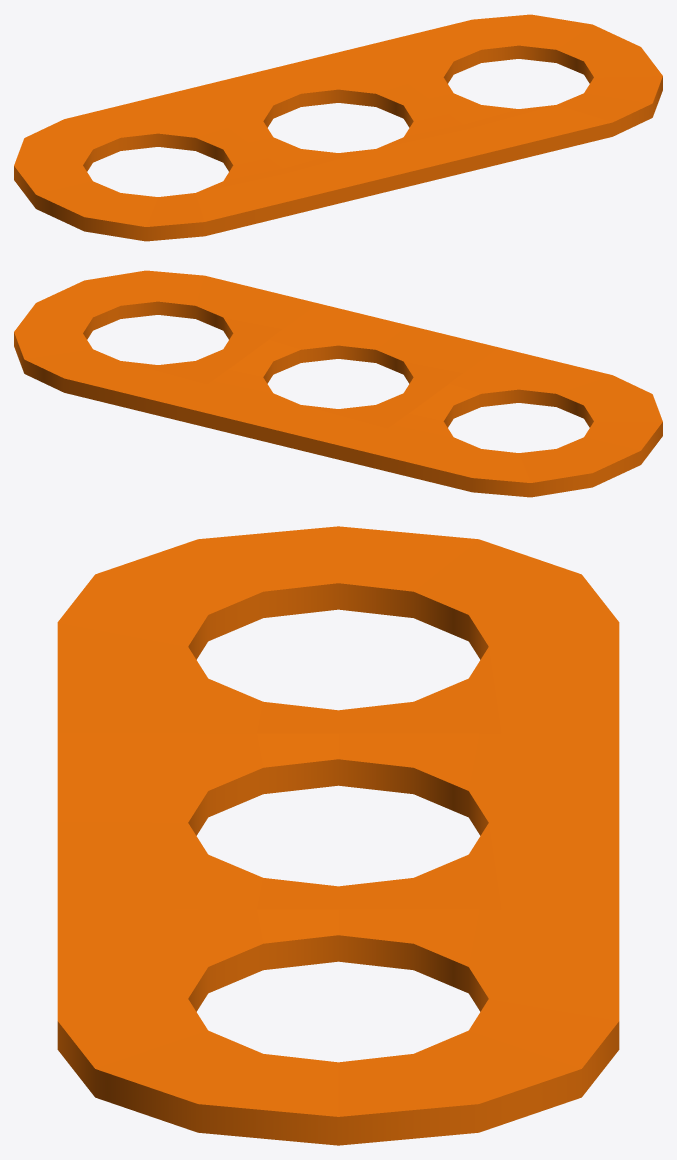
File: ThreeLongYellow.fbx
3 views of the same model, one above another, from view 1: azimuth 30°, elevation 25°; view 2: azimuth 150°, elevation 25°; view 3: azimuth 270°, elevation 25° (orthographic). The views are drawn at different scales.
Parts seen in each view (by area): view 1: Blue3; view 2: Blue3; view 3: Blue3.
Boxes of the visible parts, bbox=[...] form: Blue3: bbox=[14, 14, 662, 241]; Blue3: bbox=[14, 270, 662, 497]; Blue3: bbox=[57, 526, 619, 1145].
Size of the model in its own units: 8.58 by 0.1942 by 3.45.
